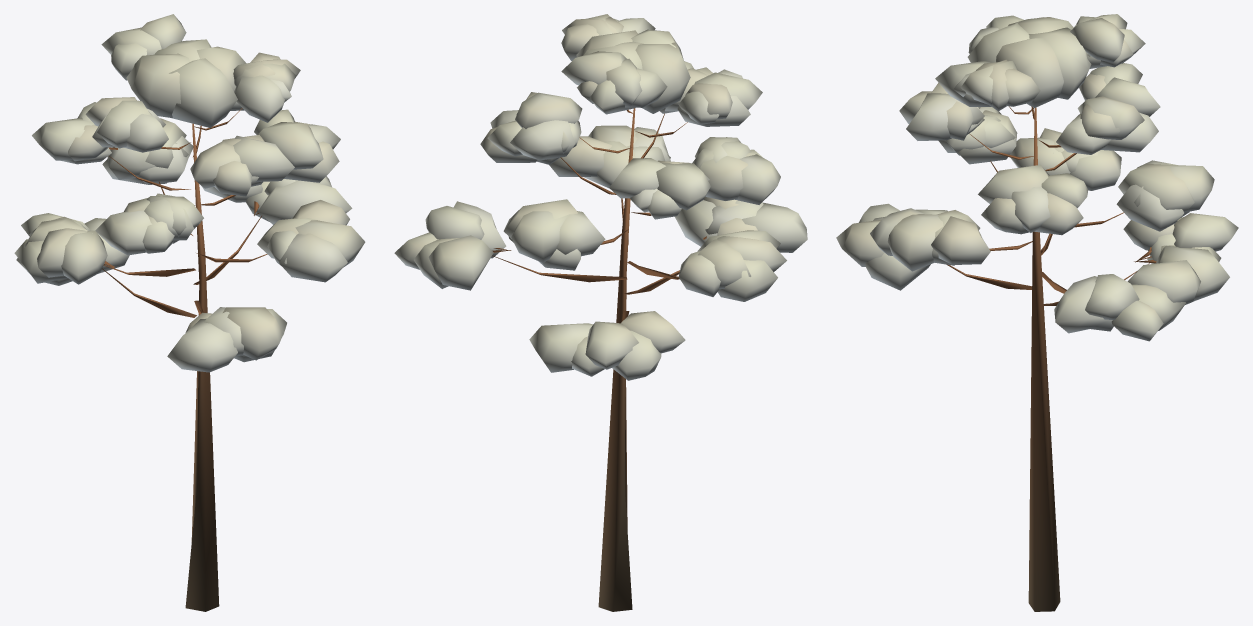
3 renders of one model, left to right at view 1: azimuth 30°, elevation 25°; view 2: azimuth 150°, elevation 25°; view 3: azimuth 270°, elevation 25°, orthographic.
Parts seen in each view (by area): view 1: crown, trunk; view 2: crown, trunk; view 3: crown, trunk.
Part boxes in pixels (x1,y1,x2,y2): crown: (14, 14, 365, 372); trunk: (102, 108, 267, 611); crown: (394, 14, 807, 380); trunk: (492, 108, 706, 611); crown: (836, 14, 1238, 341); trunk: (947, 106, 1156, 611).
Size of the model in its own units: 10.61 by 17.45 by 11.04.
